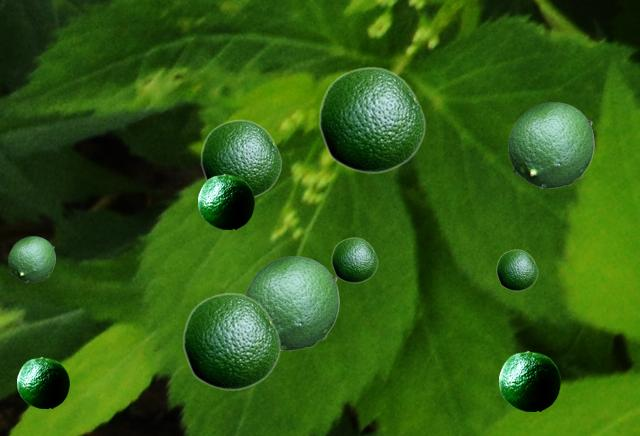calamansi: (318, 66, 425, 173), (182, 292, 280, 390), (245, 256, 338, 349), (508, 102, 593, 187), (200, 119, 281, 198), (499, 351, 559, 410), (198, 174, 253, 228), (17, 357, 68, 407), (331, 237, 377, 282), (8, 236, 54, 281), (496, 249, 537, 290)
